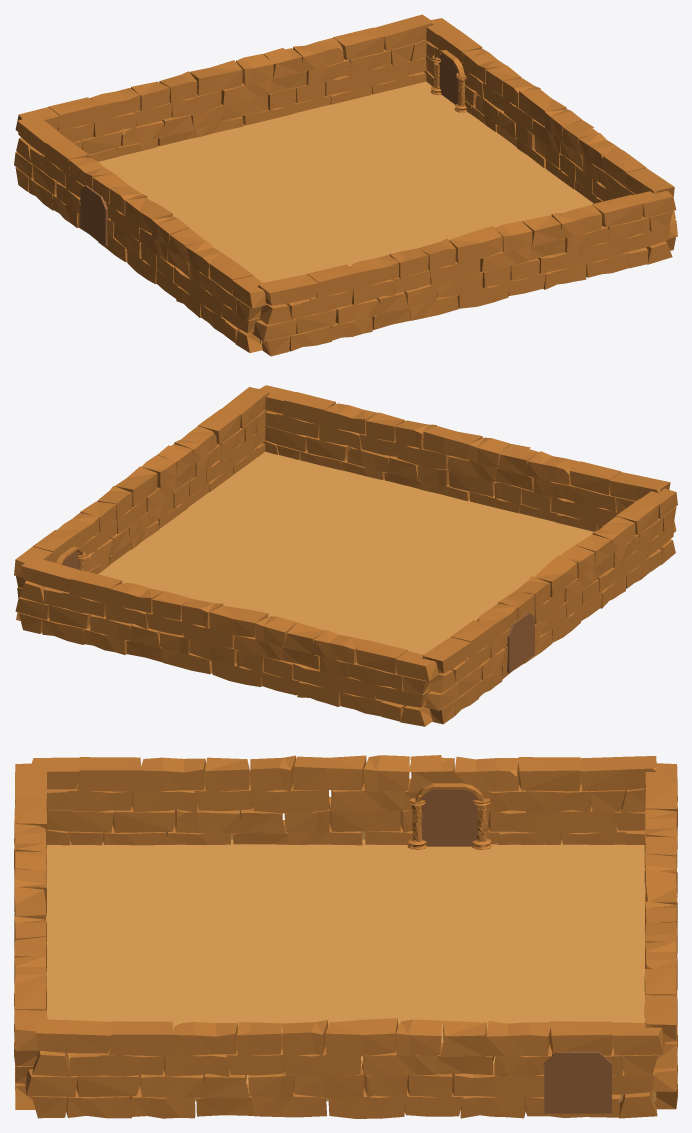
3 renders of one model, top to bottom at view 1: azimuth 30°, elevation 25°; view 2: azimuth 150°, elevation 25°; view 3: azimuth 270°, elevation 25°, orthographic. The views are drawn at different scales.
Parts seen in each view (by area): view 1: Cube.027; view 2: Cube.027; view 3: Cube.027.
Boxes of the visible parts, x1,y1,x2,y2 form: Cube.027: (14,14,677,356); Cube.027: (14,385,677,726); Cube.027: (14,755,677,1118).
Size of the model in its own units: 15.46 by 2.26 by 15.49.
